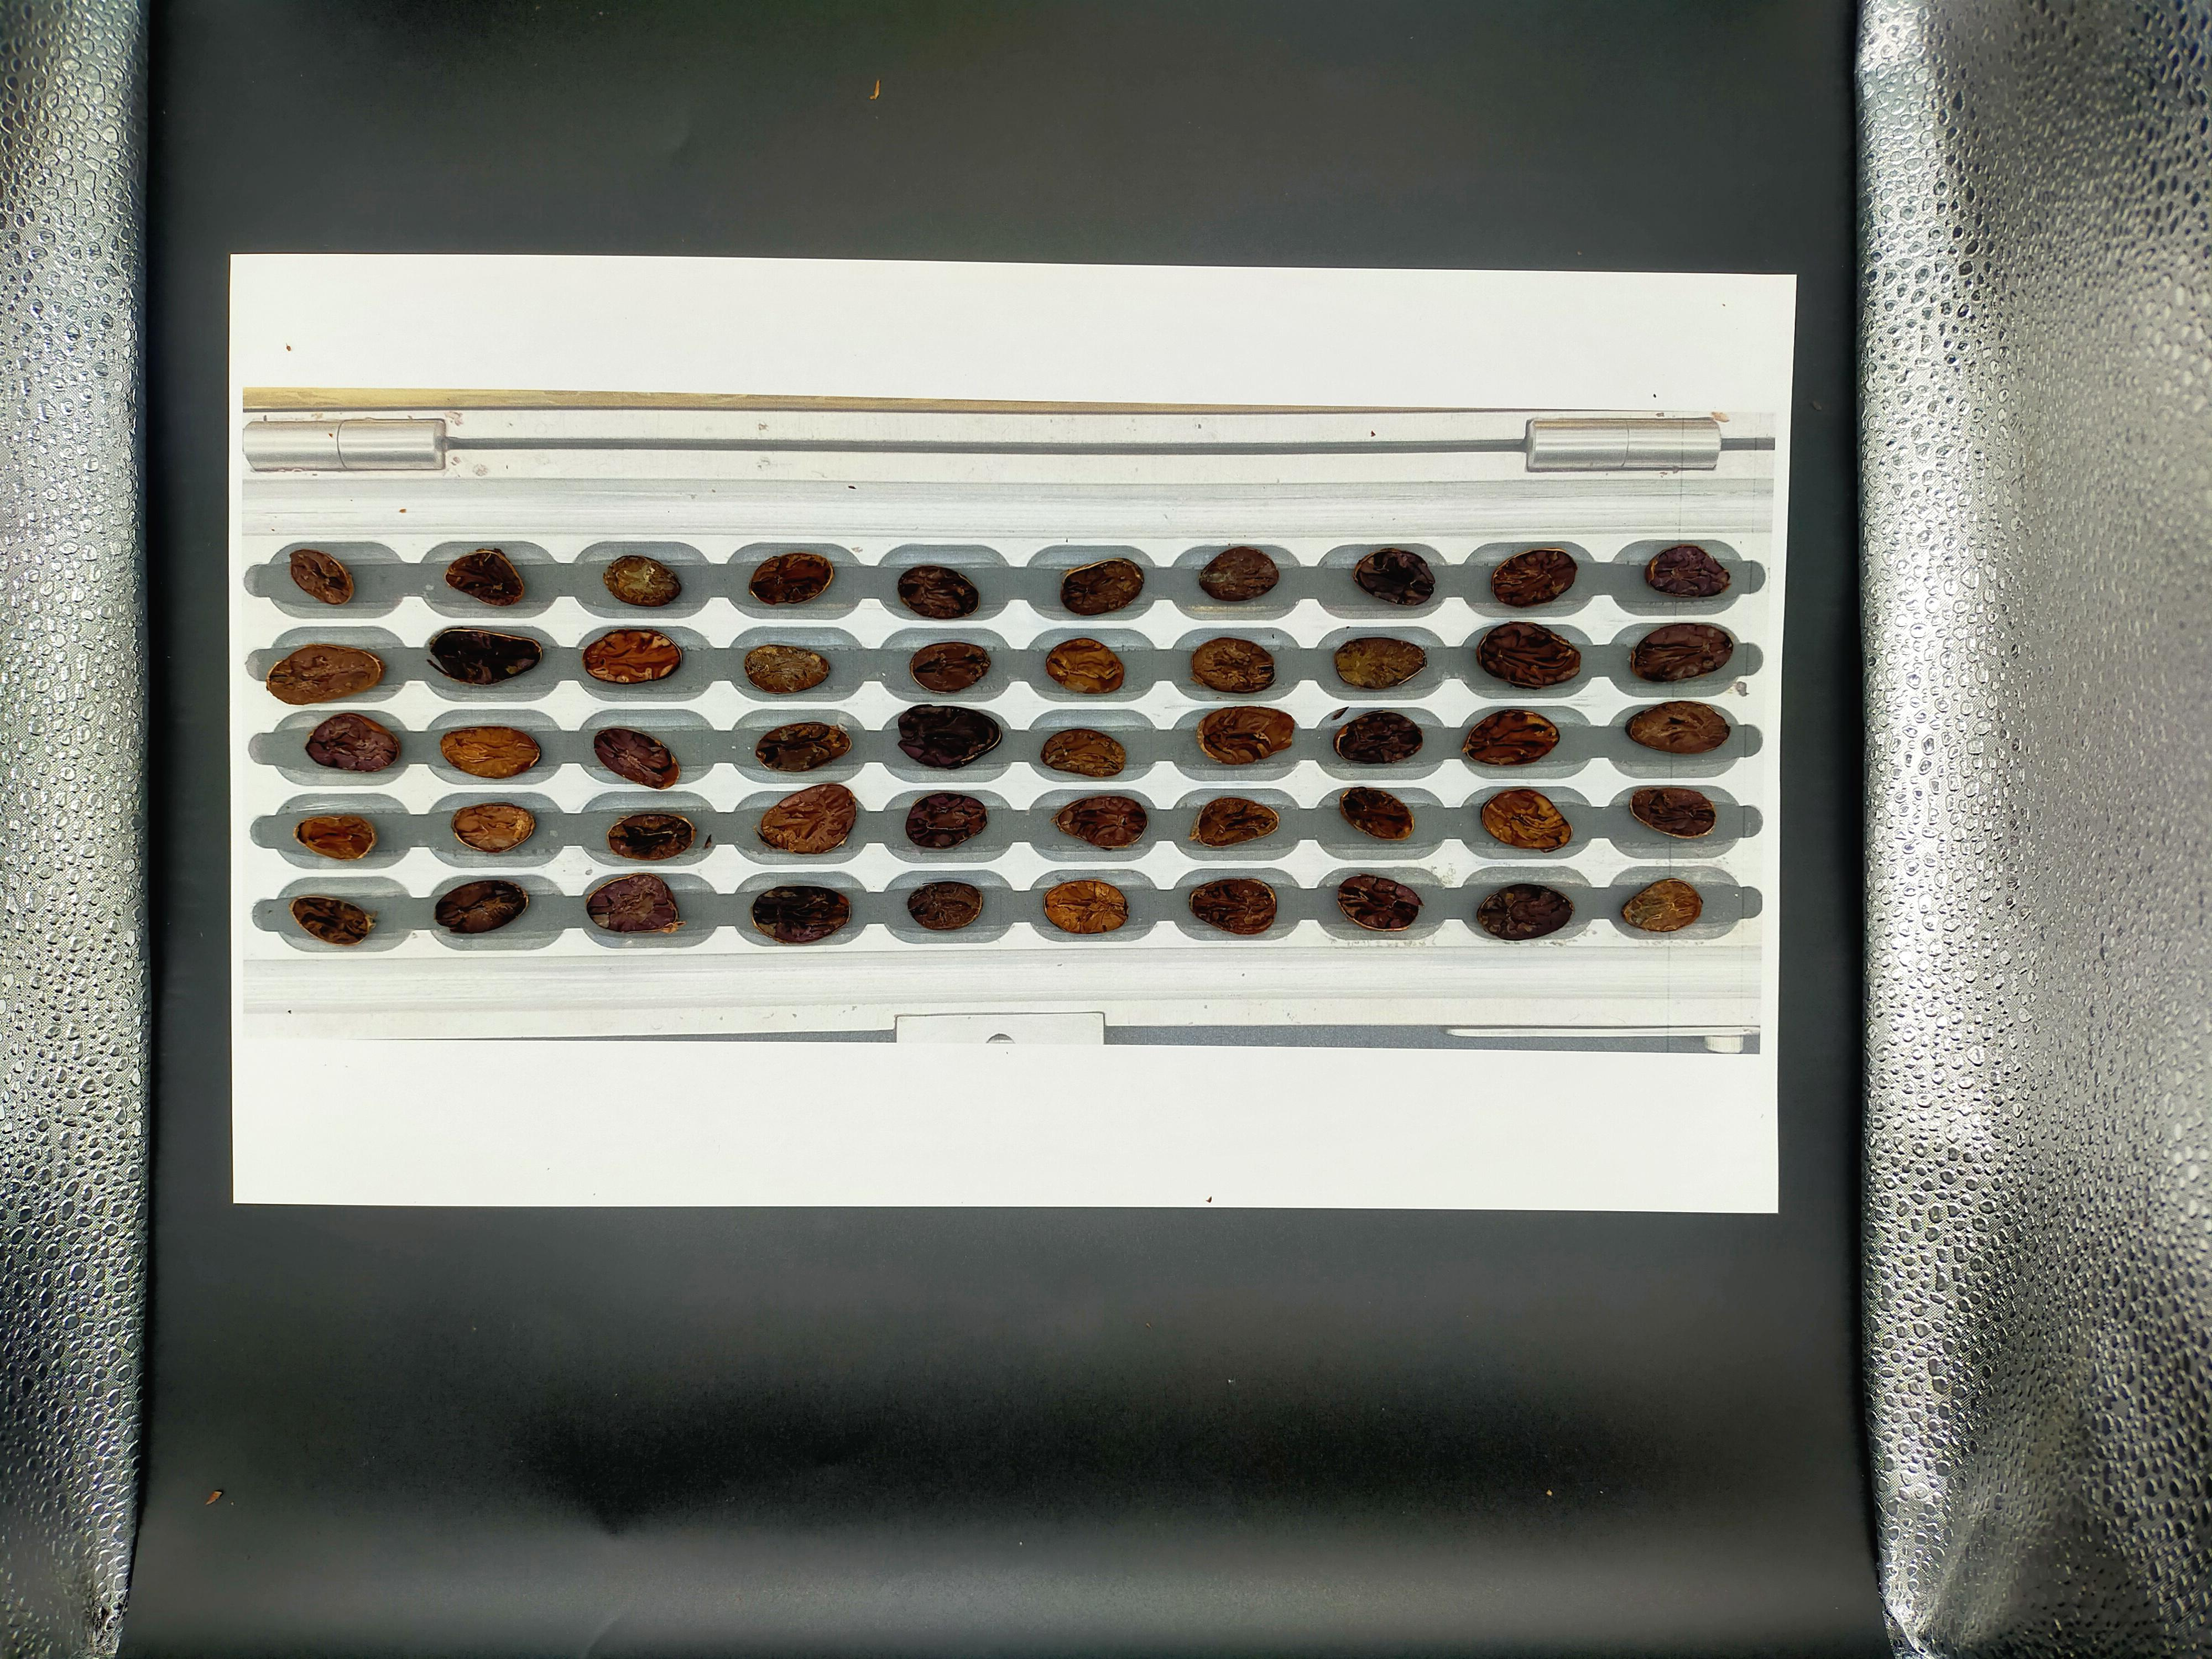Brown - G1: (1834, 1126, 1892, 1166), (1376, 1129, 1435, 1164), (1226, 1222, 1278, 1256), (1827, 1171, 1881, 1204)
Brown - G2: (1467, 1209, 1521, 1253), (1834, 1211, 1888, 1249), (1691, 1169, 1745, 1204), (1841, 1089, 1892, 1124), (1618, 1216, 1670, 1249), (1611, 1134, 1660, 1169), (1688, 1215, 1738, 1248), (1461, 1089, 1510, 1122), (1686, 1260, 1737, 1291), (1763, 1211, 1808, 1244)
Brown - G3: (1214, 1138, 1280, 1173), (1909, 1168, 1966, 1199), (1303, 1180, 1360, 1211), (1611, 1256, 1662, 1291), (1686, 1134, 1737, 1168), (1622, 1093, 1669, 1127), (1543, 1136, 1590, 1168), (1308, 1220, 1357, 1249), (1609, 1182, 1660, 1209), (1224, 1089, 1266, 1122)
Insect-damaged: (1761, 1134, 1813, 1166)
Mouldy: (1905, 1258, 1954, 1291), (1460, 1138, 1508, 1169), (1386, 1091, 1432, 1124), (1691, 1089, 1737, 1121), (1543, 1258, 1585, 1290)
Partly Purple - G1: (1534, 1169, 1595, 1208), (1763, 1253, 1811, 1291)
Partly Purple - G2: (1294, 1129, 1362, 1166), (1463, 1262, 1519, 1298), (1912, 1127, 1970, 1162), (1757, 1173, 1811, 1206), (1540, 1213, 1588, 1249), (1386, 1223, 1442, 1253)
Partly Purple - G3: (1381, 1180, 1433, 1216)
Total Purple - G2: (1914, 1086, 1970, 1119)
Total Purple - G3: (1233, 1175, 1289, 1213), (1378, 1256, 1432, 1295)
Very Dark Brown - G1: (1226, 1265, 1275, 1298)
Very Dark Brown - G2: (1912, 1208, 1961, 1244), (1303, 1089, 1353, 1124), (1771, 1089, 1818, 1126), (1534, 1098, 1585, 1131)
Very Dark Brown - G3: (1832, 1258, 1890, 1295), (1298, 1260, 1357, 1293), (1463, 1178, 1519, 1208)
